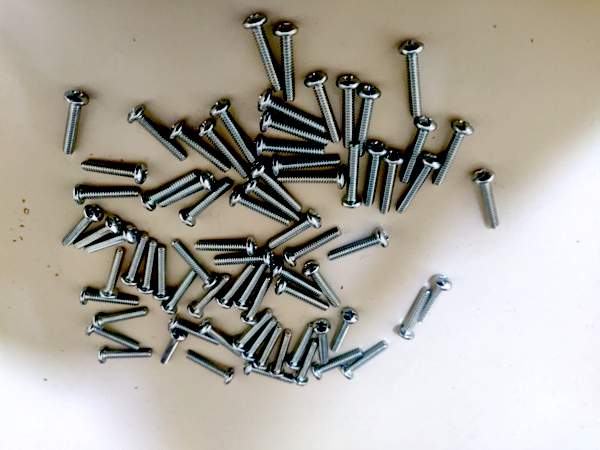longscrew: (129, 108, 184, 162), (213, 95, 256, 164), (261, 104, 331, 145), (259, 95, 328, 136), (245, 12, 279, 94), (199, 123, 247, 179), (171, 127, 228, 174), (252, 163, 308, 209), (395, 155, 440, 212), (306, 74, 343, 143), (175, 183, 230, 227), (243, 179, 299, 220), (436, 120, 471, 185), (140, 171, 198, 210), (285, 228, 342, 267), (331, 229, 388, 268), (404, 115, 436, 184), (273, 19, 299, 103), (228, 195, 290, 227), (403, 31, 424, 124), (271, 261, 321, 299), (174, 242, 215, 288), (62, 87, 87, 158), (472, 167, 501, 228), (158, 179, 219, 208), (231, 313, 271, 357), (343, 344, 389, 382), (270, 213, 321, 247), (185, 353, 236, 387), (271, 153, 343, 177), (303, 263, 343, 306), (188, 275, 226, 320), (312, 350, 367, 381), (276, 167, 347, 191), (79, 159, 150, 183), (75, 217, 125, 251), (239, 280, 277, 324), (234, 265, 272, 309), (216, 265, 254, 309), (275, 282, 327, 314), (253, 133, 325, 156), (161, 272, 197, 316), (358, 85, 380, 155), (85, 323, 137, 352), (380, 148, 403, 213), (339, 76, 360, 147), (123, 234, 151, 287), (59, 209, 98, 247), (200, 323, 240, 360), (84, 226, 136, 253), (167, 320, 219, 347), (419, 278, 450, 323), (243, 365, 295, 391), (246, 319, 277, 362), (68, 190, 150, 206), (212, 251, 275, 271), (344, 145, 363, 211), (405, 287, 428, 340), (194, 236, 258, 255), (365, 144, 384, 205), (92, 309, 149, 329), (334, 309, 359, 354), (94, 348, 153, 367), (138, 239, 156, 297), (259, 325, 281, 372), (80, 291, 139, 308), (102, 245, 120, 298), (155, 245, 171, 303), (161, 329, 185, 367), (294, 323, 313, 371), (297, 342, 316, 388), (275, 327, 290, 379), (315, 319, 331, 365)
